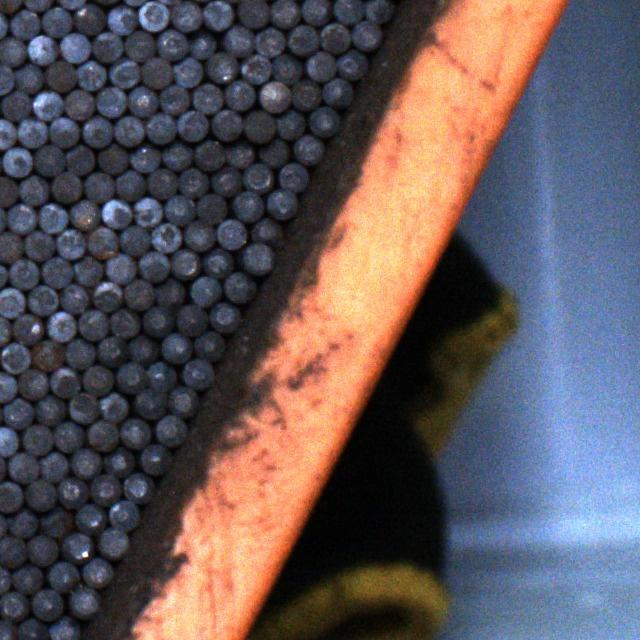tool: (6, 54, 53, 102), (80, 554, 116, 588), (199, 246, 237, 278), (184, 26, 219, 60), (207, 301, 244, 333), (258, 80, 292, 114), (270, 50, 304, 84), (154, 414, 189, 447), (30, 588, 66, 620), (249, 216, 285, 248), (30, 338, 64, 371), (121, 471, 156, 503), (24, 479, 57, 512), (86, 226, 119, 259), (192, 136, 225, 169), (7, 8, 40, 41), (190, 81, 223, 114), (11, 562, 45, 594), (68, 587, 102, 619), (115, 361, 147, 395), (174, 303, 208, 335), (169, 246, 201, 280), (264, 188, 298, 220), (108, 57, 142, 89), (336, 48, 370, 80), (221, 24, 255, 56), (96, 528, 131, 559), (239, 244, 275, 274), (349, 20, 385, 50), (46, 560, 79, 592), (103, 446, 136, 478), (53, 420, 85, 453), (160, 332, 193, 364), (190, 274, 222, 307), (104, 252, 137, 284), (211, 163, 243, 196), (1, 146, 34, 178), (128, 139, 160, 172), (216, 218, 248, 251), (306, 106, 339, 138), (31, 88, 64, 120), (45, 59, 77, 92), (60, 31, 92, 64), (205, 51, 238, 83), (154, 28, 187, 60), (193, 329, 227, 360), (242, 110, 276, 141), (74, 2, 105, 36), (57, 476, 89, 508), (90, 474, 122, 506), (7, 452, 39, 484), (140, 443, 172, 475), (33, 394, 65, 426), (66, 391, 98, 423), (12, 312, 44, 344), (58, 282, 90, 314), (41, 257, 73, 289), (138, 250, 170, 282), (184, 220, 216, 252), (37, 202, 69, 234), (164, 194, 196, 226), (177, 110, 209, 142), (232, 190, 264, 222), (158, 84, 190, 116), (224, 80, 256, 112), (172, 56, 204, 88), (47, 367, 80, 398), (181, 358, 214, 389), (146, 111, 177, 144), (95, 85, 126, 118), (170, 0, 201, 33), (39, 448, 69, 482), (80, 365, 114, 395), (81, 172, 115, 202), (142, 54, 172, 88), (27, 534, 58, 566), (41, 506, 73, 537), (75, 503, 107, 534), (22, 424, 53, 456), (88, 420, 120, 451), (98, 391, 130, 422), (135, 388, 167, 419), (169, 385, 200, 417), (97, 336, 129, 367), (44, 311, 76, 342), (78, 309, 109, 341), (142, 305, 174, 336), (123, 278, 154, 310), (154, 276, 186, 307), (8, 258, 40, 289), (23, 230, 55, 261), (150, 222, 182, 253), (100, 198, 131, 230), (147, 167, 178, 199), (178, 166, 210, 197), (96, 142, 128, 173), (81, 116, 112, 148), (114, 115, 146, 146), (292, 134, 324, 165), (210, 110, 242, 141), (26, 34, 58, 65), (92, 31, 124, 62), (291, 78, 322, 110), (108, 500, 141, 530), (69, 448, 102, 478), (146, 361, 176, 394), (28, 284, 58, 317), (18, 175, 51, 205), (65, 142, 95, 175), (162, 136, 192, 169), (224, 272, 257, 302), (9, 507, 40, 538), (64, 338, 95, 369), (72, 254, 103, 285), (64, 89, 95, 120), (76, 59, 107, 90), (124, 30, 155, 61), (287, 24, 318, 55), (18, 368, 48, 400), (109, 308, 141, 338), (50, 172, 82, 202), (33, 145, 65, 175), (16, 117, 48, 147), (48, 117, 80, 147), (278, 161, 310, 191), (0, 90, 30, 122), (126, 86, 156, 118), (323, 77, 355, 107), (304, 50, 336, 80), (319, 22, 349, 54), (105, 5, 137, 35), (138, 0, 168, 32), (202, 0, 234, 30), (47, 613, 82, 640), (120, 417, 150, 448), (0, 342, 30, 373), (92, 280, 122, 311), (70, 199, 100, 230), (132, 195, 162, 226), (115, 170, 146, 200), (224, 137, 255, 167), (0, 589, 29, 621), (61, 532, 93, 561), (128, 332, 157, 364), (258, 138, 290, 167), (40, 7, 73, 35), (236, 0, 269, 28), (2, 398, 32, 428), (55, 228, 85, 258), (6, 203, 36, 233), (240, 53, 270, 83), (120, 225, 149, 256), (196, 193, 227, 222), (243, 163, 274, 192), (256, 25, 284, 57), (300, 0, 334, 25), (275, 110, 305, 138), (0, 536, 27, 567), (0, 287, 27, 318), (0, 35, 26, 66), (270, 0, 298, 28), (332, 0, 366, 23), (0, 482, 24, 512), (0, 232, 24, 262), (365, 0, 399, 21), (19, 617, 48, 640), (0, 426, 20, 456), (0, 371, 17, 403), (0, 176, 18, 206), (0, 118, 15, 149), (0, 62, 13, 96)
